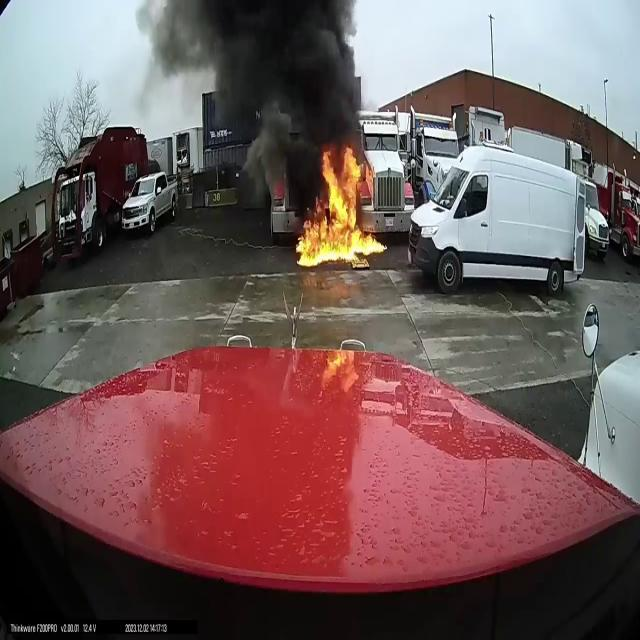Fire: (296, 143, 384, 268)
Smoke: (144, 0, 371, 160)
